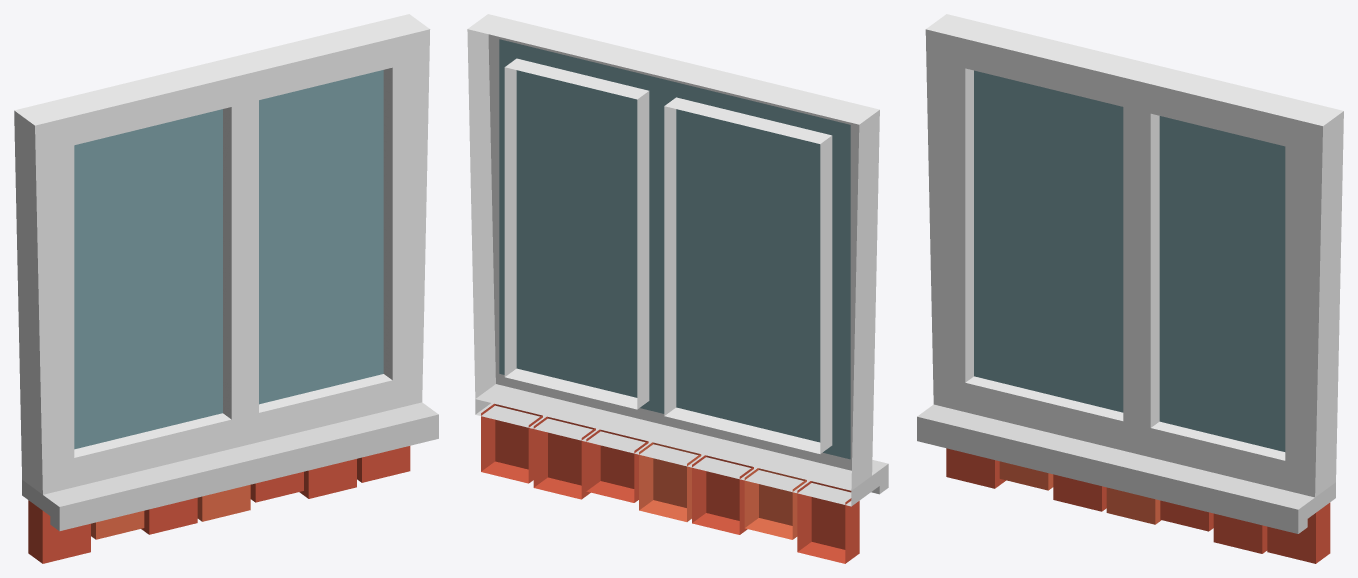
File: House (Window 1).fbx
3 renders of one model, left to right at view 1: azimuth 30°, elevation 25°; view 2: azimuth 150°, elevation 25°; view 3: azimuth 330°, elevation 25°, orthographic.
Visible parts, largest first — view 1: House (Window 1); view 2: House (Window 1); view 3: House (Window 1).
Boxes of the visible parts, x1,y1,x2,y2 form: House (Window 1): (14, 14, 438, 563); House (Window 1): (467, 14, 888, 563); House (Window 1): (917, 14, 1343, 563).
Bounding box in the file's own units: 373 × 403 × 61.19.
